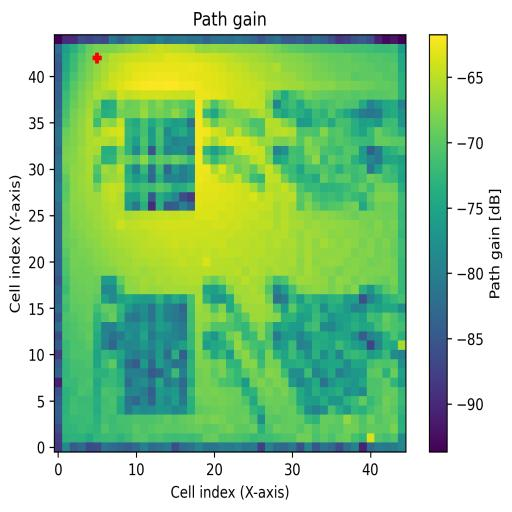Concrete: (298, 100, 374, 211)
Glass: (125, 99, 196, 211)
Metal: (288, 296, 375, 415)
Wood: (116, 295, 194, 416)
